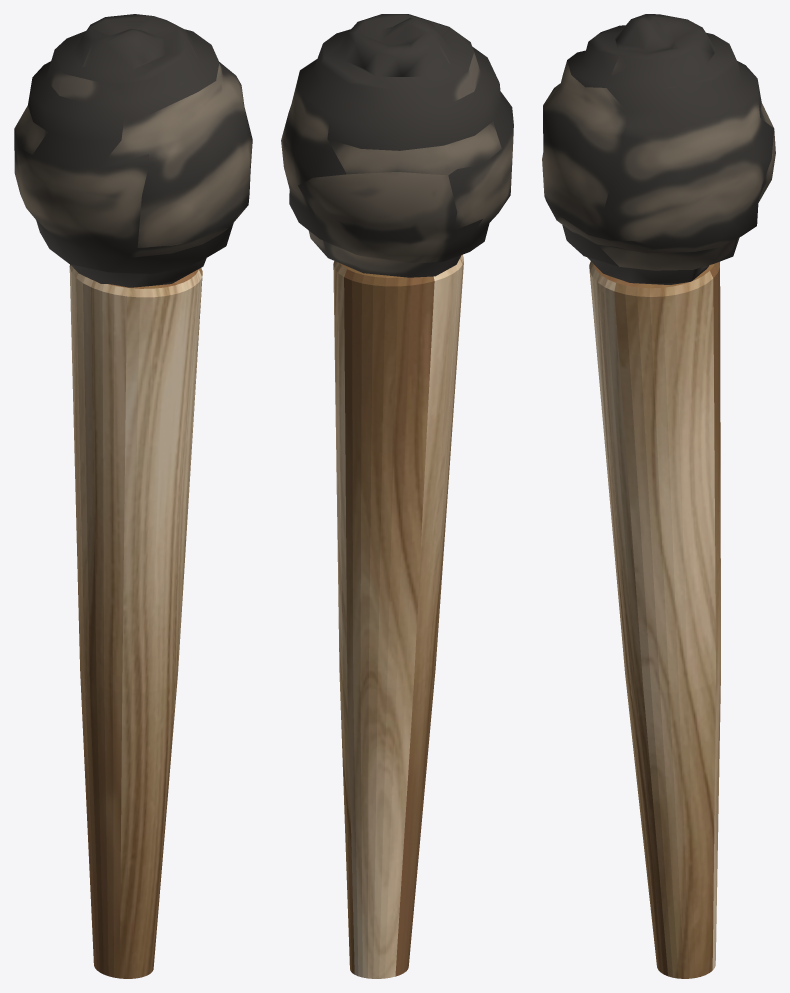
3 renders of one model, left to right at view 1: azimuth 30°, elevation 25°; view 2: azimuth 150°, elevation 25°; view 3: azimuth 270°, elevation 25°, orthographic. The views are drawn at different scales.
Visible parts, largest first — view 1: Landscape; view 2: Landscape; view 3: Landscape.
Boxes of the visible parts, x1=… form: Landscape: x1=14, y1=14, x2=252, y2=978; Landscape: x1=281, y1=14, x2=513, y2=978; Landscape: x1=542, y1=14, x2=775, y2=978.
Size of the model in its own units: 31.77 by 141 by 31.75.
Materials: 1 (1 with a texture image).
